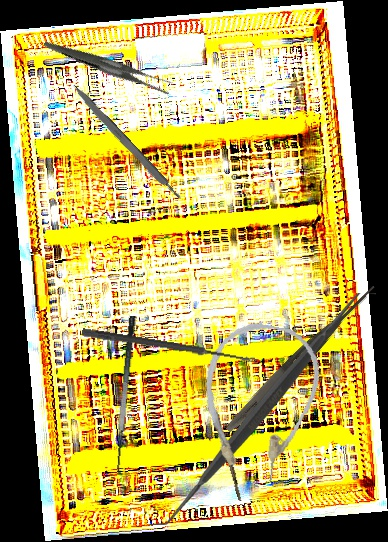Cannula: (189, 316, 328, 487)
Dressing Forceps: (221, 279, 380, 437), (43, 5, 176, 125)
Scalpel Handle: (69, 82, 183, 204)
Spatula Surgical: (147, 293, 376, 525), (109, 315, 150, 476)
Surgical Spoon: (81, 328, 259, 365), (202, 380, 245, 502)
